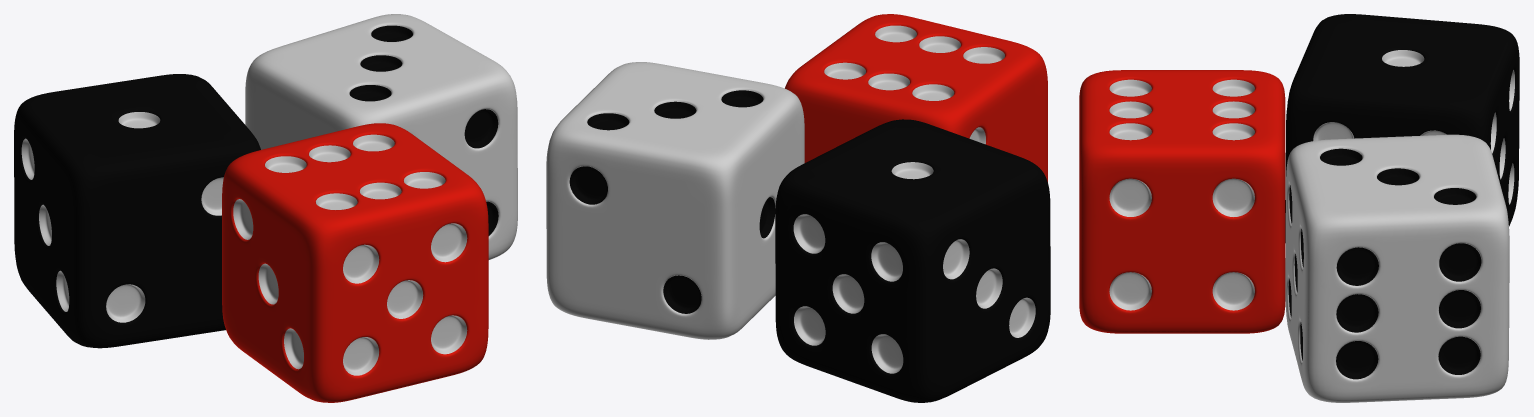
Rendered from dice.glb.
The picture shows the model from 3 angles, left to right: view 1: azimuth 30°, elevation 25°; view 2: azimuth 150°, elevation 25°; view 3: azimuth 270°, elevation 25°; orthographic projection.
Parts seen in each view (by area): view 1: Cube.001_3, Cube_2, Cube.002_4; view 2: Cube_2, Cube.002_4, Cube.001_3; view 3: Cube.002_4, Cube.001_3, Cube_2.
Boxes of the visible parts, left/top/right/bottom form: Cube.001_3: left=222, top=123, right=488, bottom=402; Cube_2: left=14, top=74, right=260, bottom=348; Cube.002_4: left=245, top=14, right=517, bottom=259; Cube_2: left=775, top=119, right=1050, bottom=402; Cube.002_4: left=546, top=62, right=804, bottom=339; Cube.001_3: left=785, top=14, right=1047, bottom=181; Cube.002_4: left=1285, top=134, right=1509, bottom=402; Cube.001_3: left=1079, top=70, right=1285, bottom=333; Cube_2: left=1285, top=14, right=1519, bottom=242.
Size of the model in its own units: 4.94 by 2.02 by 4.27.
